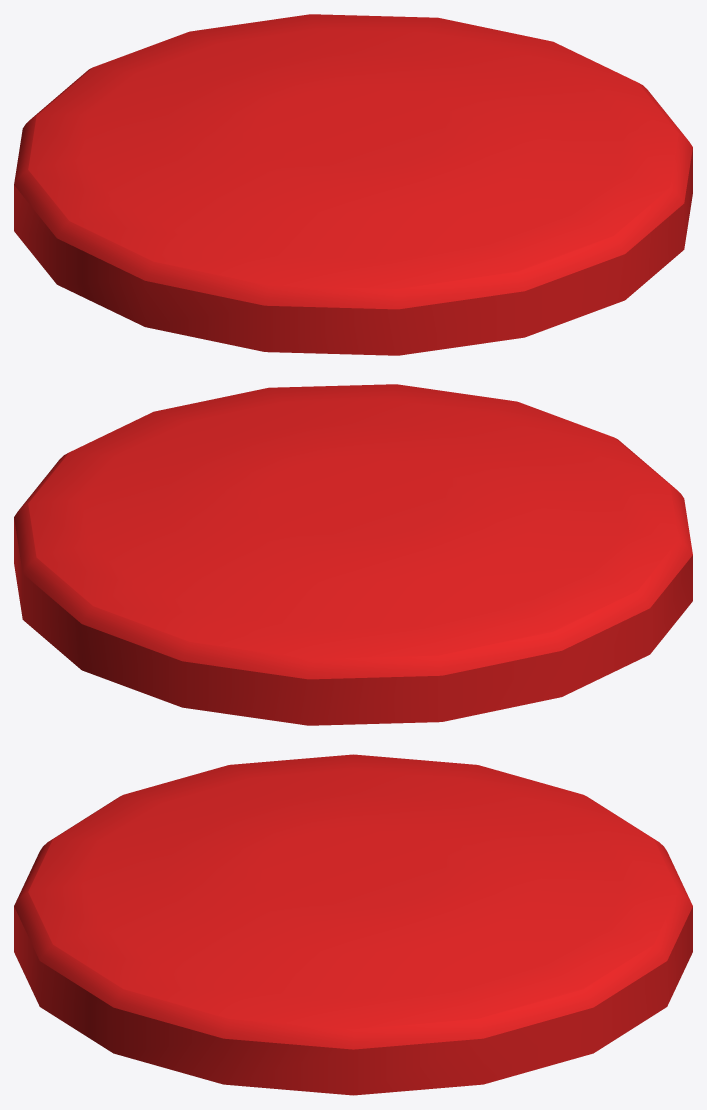
The model's file is SM_RedButton.fbx.
The picture shows the model from 3 angles, top to bottom: view 1: azimuth 30°, elevation 25°; view 2: azimuth 150°, elevation 25°; view 3: azimuth 270°, elevation 25°; orthographic projection.
Parts seen in each view (by area): view 1: RedButton; view 2: RedButton; view 3: RedButton.
Part boxes in pixels (<box>): RedButton: <box>14,14,692,355</box>; RedButton: <box>14,384,692,725</box>; RedButton: <box>14,754,692,1095</box>.
Size of the model in its own units: 60 by 60 by 8.22.
